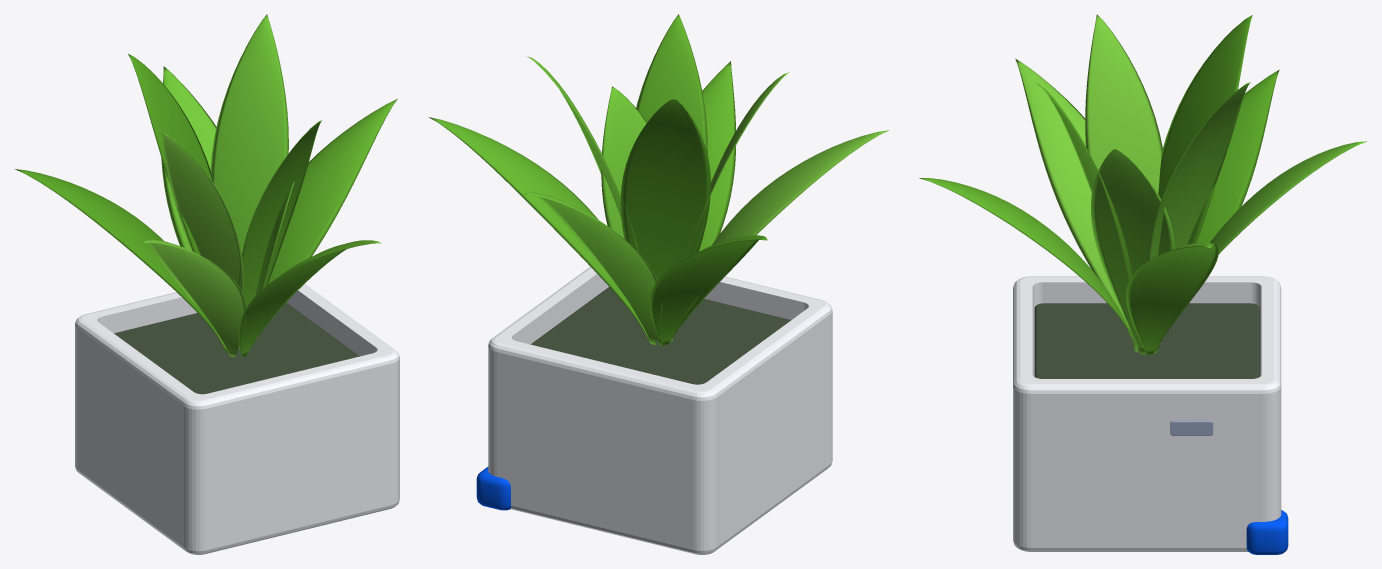
File: 29-nodeworks-plant-square-pot.glb
3 views of the same model, side by side, from view 1: azimuth 30°, elevation 25°; view 2: azimuth 150°, elevation 25°; view 3: azimuth 270°, elevation 25° (orthographic). The views are drawn at different scales.
Visible parts, largest first — view 1: hollow_white_square_pot, recessed_soil, pointed_green_leaf_6, pointed_green_leaf_1, pointed_green_leaf_8, pointed_green_leaf_9, pointed_green_leaf_4, pointed_green_leaf_3, pointed_green_leaf_7, pointed_green_leaf_5, pointed_green_leaf_2, pointed_green_leaf_10; view 2: hollow_white_square_pot, recessed_soil, pointed_green_leaf_7, pointed_green_leaf_1, pointed_green_leaf_3, pointed_green_leaf_2, pointed_green_leaf_9, pointed_green_leaf_4, pointed_green_leaf_5, pointed_green_leaf_10, pointed_green_leaf_6, blue_corner_accent (+1 smaller); view 3: hollow_white_square_pot, recessed_soil, pointed_green_leaf_8, pointed_green_leaf_10, pointed_green_leaf_4, pointed_green_leaf_1, pointed_green_leaf_6, pointed_green_leaf_7, pointed_green_leaf_3, pointed_green_leaf_5, pointed_green_leaf_2, pointed_green_leaf_9 (+2 smaller).
Boxes of the visible parts, bbox=[...] form: hollow_white_square_pot: bbox=[75, 284, 399, 554]; recessed_soil: bbox=[114, 302, 359, 394]; pointed_green_leaf_6: bbox=[210, 14, 288, 348]; pointed_green_leaf_1: bbox=[268, 99, 397, 284]; pointed_green_leaf_8: bbox=[162, 133, 243, 355]; pointed_green_leaf_9: bbox=[238, 120, 322, 307]; pointed_green_leaf_4: bbox=[142, 239, 246, 357]; pointed_green_leaf_3: bbox=[14, 169, 226, 353]; pointed_green_leaf_7: bbox=[128, 54, 227, 351]; pointed_green_leaf_5: bbox=[238, 240, 381, 356]; pointed_green_leaf_2: bbox=[161, 66, 216, 250]; pointed_green_leaf_10: bbox=[255, 181, 294, 295]; hollow_white_square_pot: bbox=[488, 266, 832, 554]; recessed_soil: bbox=[530, 287, 791, 384]; pointed_green_leaf_7: bbox=[620, 99, 710, 345]; pointed_green_leaf_1: bbox=[428, 117, 648, 340]; pointed_green_leaf_3: bbox=[649, 235, 767, 345]; pointed_green_leaf_2: bbox=[524, 192, 662, 345]; pointed_green_leaf_9: bbox=[636, 14, 707, 155]; pointed_green_leaf_4: bbox=[671, 130, 888, 341]; pointed_green_leaf_5: bbox=[699, 61, 735, 251]; pointed_green_leaf_10: bbox=[601, 86, 646, 238]; pointed_green_leaf_6: bbox=[527, 56, 650, 342]; blue_corner_accent: bbox=[476, 466, 510, 510]; hollow_white_square_pot: bbox=[1013, 276, 1281, 551]; recessed_soil: bbox=[1034, 303, 1259, 378]; pointed_green_leaf_8: bbox=[1085, 14, 1162, 193]; pointed_green_leaf_10: bbox=[1091, 149, 1174, 354]; pointed_green_leaf_4: bbox=[1015, 58, 1133, 337]; pointed_green_leaf_1: bbox=[1126, 242, 1218, 355]; pointed_green_leaf_6: bbox=[1147, 82, 1250, 353]; pointed_green_leaf_7: bbox=[1158, 15, 1252, 244]; pointed_green_leaf_3: bbox=[1196, 69, 1279, 242]; pointed_green_leaf_5: bbox=[919, 178, 1135, 351]; pointed_green_leaf_2: bbox=[1158, 141, 1366, 351]; pointed_green_leaf_9: bbox=[1036, 83, 1138, 352].
Bounding box in the file's own units: 0.2474 × 0.282 × 0.2516.
